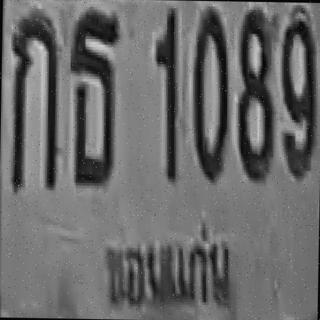A01: (8, 9, 58, 189)
A24: (66, 8, 118, 184)
N00: (190, 5, 229, 178)
N01: (152, 9, 178, 154)
N08: (236, 8, 275, 180)
N09: (278, 13, 317, 179)
P18: (95, 214, 238, 312)
